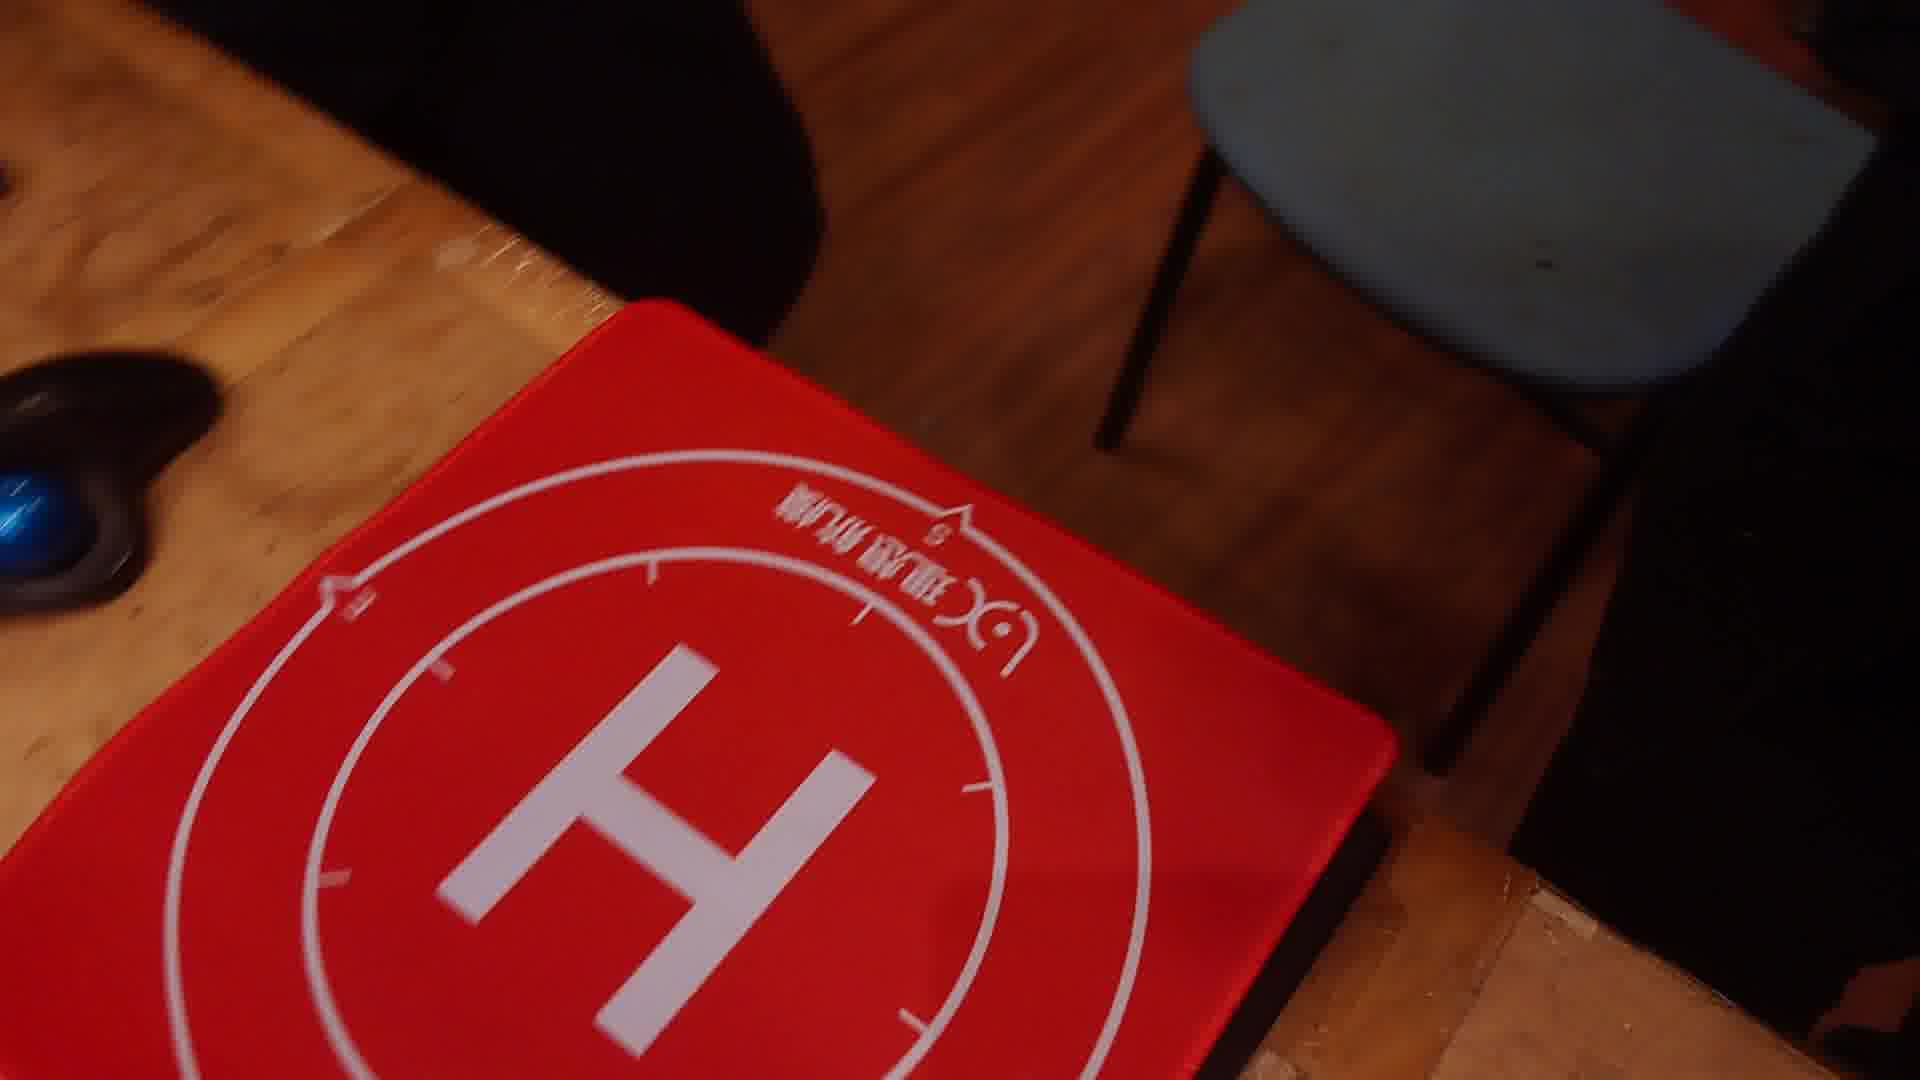H: (439, 641, 880, 1058)
